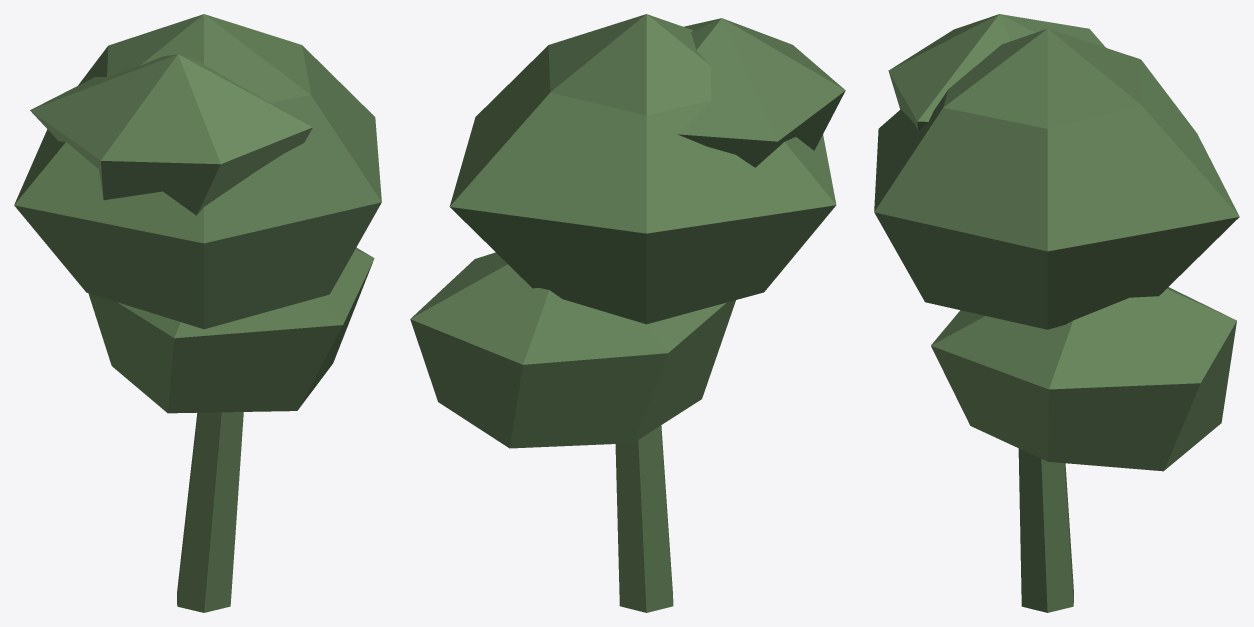
The model's file is tree_broadleaf_wide.glb.
3 renders of one model, left to right at view 1: azimuth 30°, elevation 25°; view 2: azimuth 150°, elevation 25°; view 3: azimuth 270°, elevation 25°, orthographic. The views are drawn at different scales.
Visible parts, largest first — view 1: tree_broadleaf_wide; view 2: tree_broadleaf_wide; view 3: tree_broadleaf_wide.
Boxes of the visible parts, x1=… form: tree_broadleaf_wide: x1=14, y1=14, x2=381, y2=612; tree_broadleaf_wide: x1=410, y1=14, x2=845, y2=612; tree_broadleaf_wide: x1=874, y1=14, x2=1239, y2=612.
Size of the model in its own units: 5.15 by 7.98 by 4.63.
